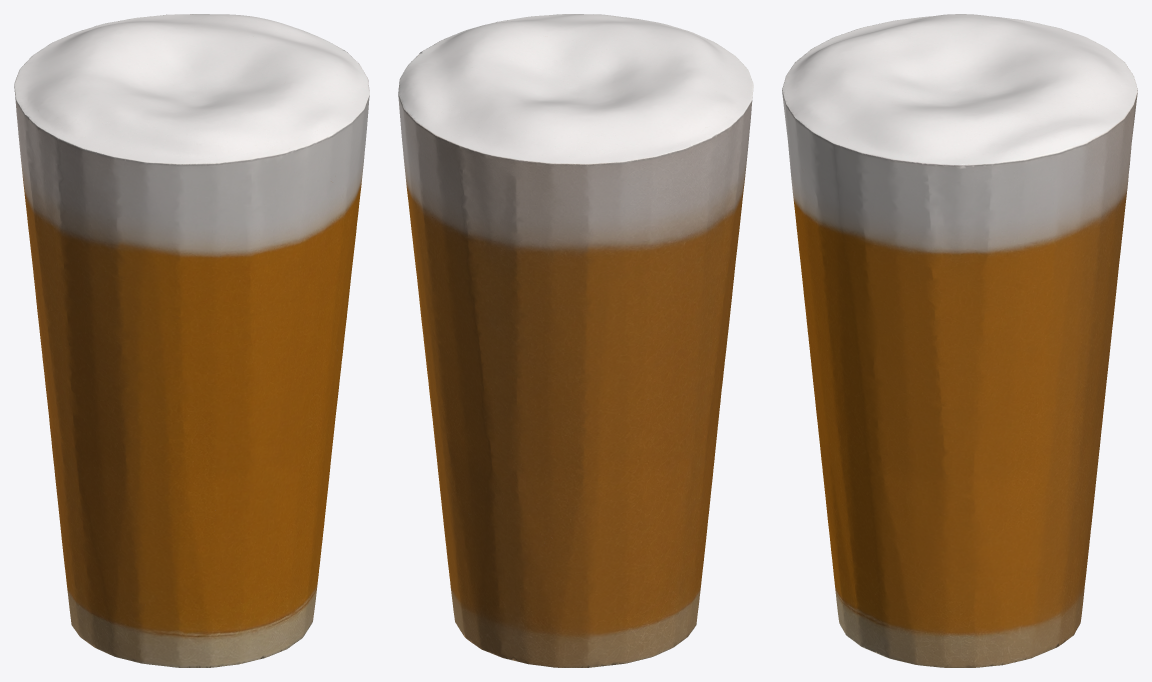
Rendered from copo_texture.fbx.
3 renders of one model, left to right at view 1: azimuth 30°, elevation 25°; view 2: azimuth 150°, elevation 25°; view 3: azimuth 270°, elevation 25°, orthographic.
Parts seen in each view (by area): view 1: Mesh_0; view 2: Mesh_0; view 3: Mesh_0.
Boxes of the visible parts, left/top/right/bottom form: Mesh_0: left=14, top=14, right=369, bottom=667; Mesh_0: left=398, top=14, right=753, bottom=667; Mesh_0: left=782, top=14, right=1137, bottom=667.
Bounding box in the file's own units: 112 × 190 × 112.
1 material, 1 textured.
